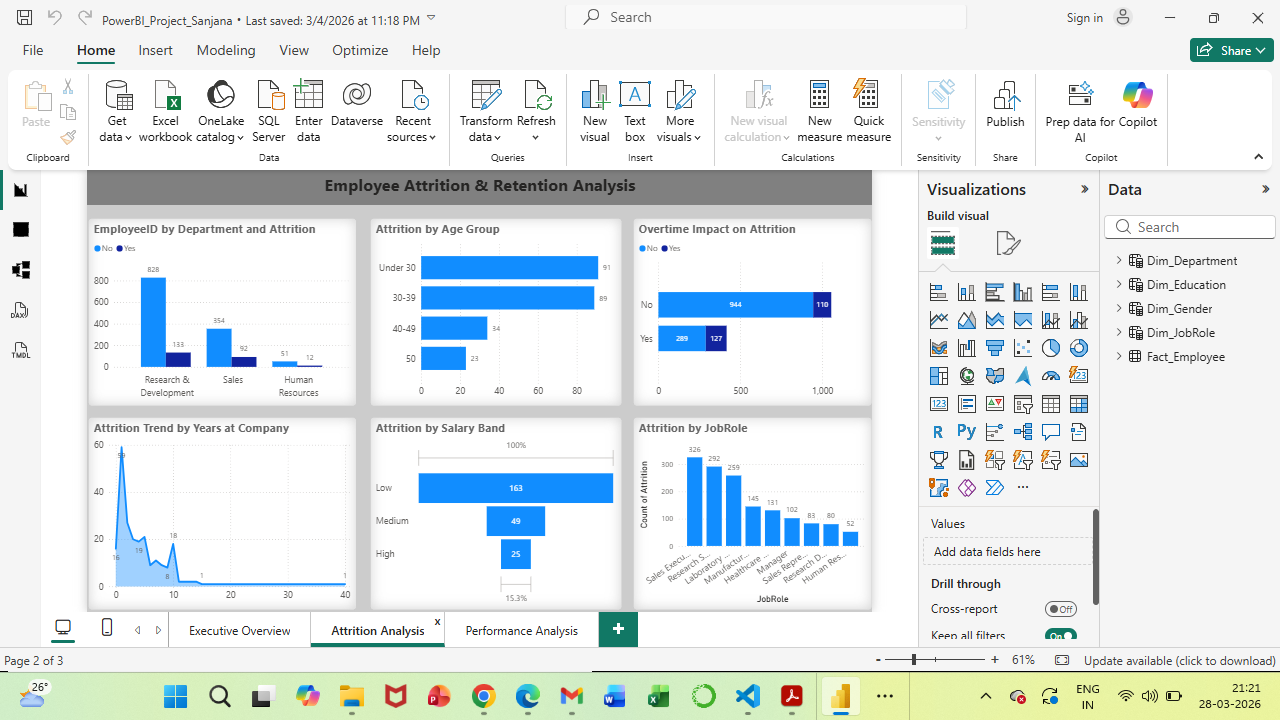

What the dashboard file says about the page in this screenshot:
{"tool":"powerbi","page":{"name":"Attrition Analysis","canvas":[1280,720],"ordinal":1},"visuals":[{"type":"clusteredColumnChart","title":"EmployeeID by Department and Attrition","fields":{"Category":["Fact_Employee.Department"],"Series":["Fact_Employee.Attrition"],"Y":["CountNonNull(Fact_Employee.EmployeeID)"]},"box":[0,76.6,441.4,309.5],"z":5000},{"type":"clusteredBarChart","title":"Attrition by Age Group","fields":{"Category":["Fact_Employee.Age_Group"],"Y":["Dim_Department.Attrition Count"]},"box":[459.4,76.6,413.8,309.5],"z":6000},{"type":"lineChart","title":"Attrition Trend by Years at Company","fields":{"Category":["Fact_Employee.YearsAtCompany"],"Y":["Dim_Department.Attrition Count"]},"box":[0,400.7,441.4,317.6],"z":7000},{"type":"barChart","title":"Overtime Impact on Attrition","fields":{"Category":["Fact_Employee.OverTime"],"Y":["CountNonNull(Fact_Employee.Attrition)"],"Series":["Fact_Employee.Attrition"]},"box":[887.8,76.6,392.6,309.5],"z":8000},{"type":"columnChart","title":"Attrition by JobRole","fields":{"Y":["CountNonNull(Fact_Employee.Attrition)"],"Category":["Fact_Employee.JobRole"]},"box":[887.8,400.7,392.6,317.6],"z":9000},{"type":"funnel","title":"Attrition by Salary Band","fields":{"Y":["Dim_Department.Attrition Count"],"Category":["Fact_Employee.Salary_Band"]},"box":[459.4,400.7,413.8,317.6],"z":11000},{"type":"textbox","box":[0,0,1280.4,57],"z":11002}]}

Visuals, with their boxes on the page's 1280x720 design canvas (x1, y1, x2, y2). These are canvas units, not pixel positions in the 1280x720 screenshot, which may show the page scaled, cropped or inside an application window:
"EmployeeID by Department and Attrition" clusteredColumnChart: locate(0, 77, 441, 386)
"Attrition by Age Group" clusteredBarChart: locate(459, 77, 873, 386)
"Attrition Trend by Years at Company" lineChart: locate(0, 401, 441, 718)
"Overtime Impact on Attrition" barChart: locate(888, 77, 1280, 386)
"Attrition by JobRole" columnChart: locate(888, 401, 1280, 718)
"Attrition by Salary Band" funnel: locate(459, 401, 873, 718)
textbox: locate(0, 0, 1280, 57)
